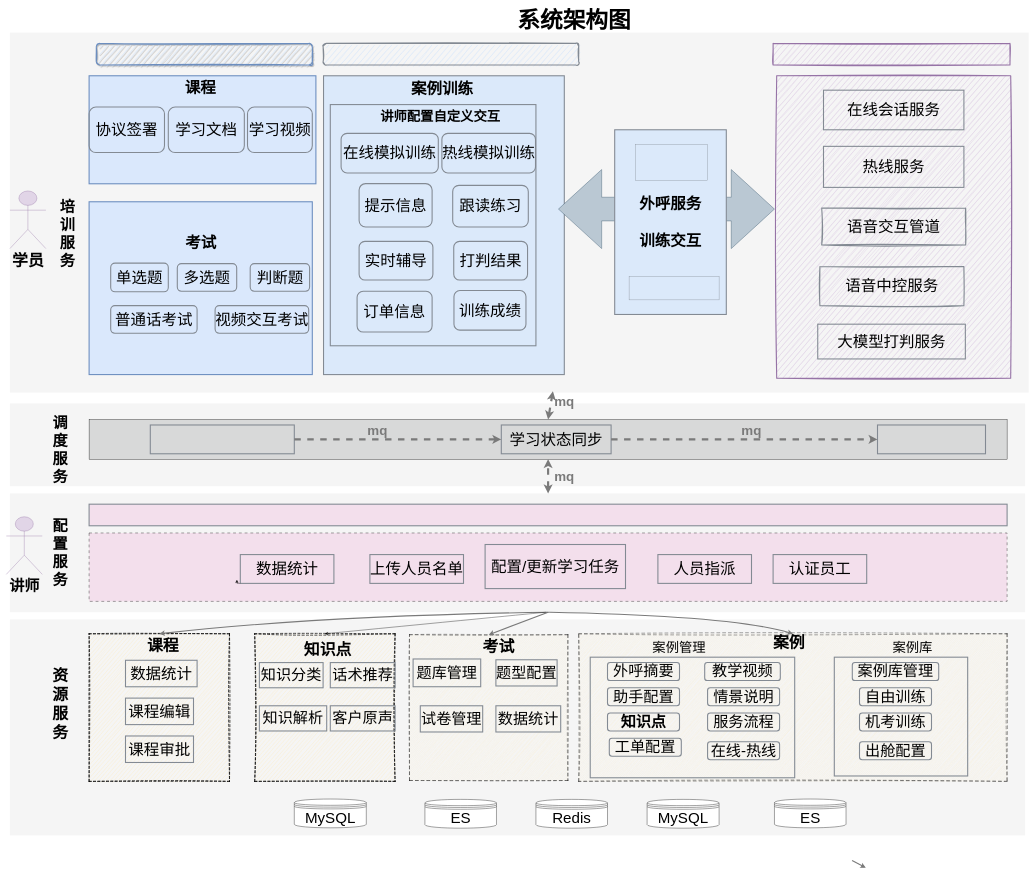
The diagram is 1035 pixels wide and 877 high, and some of its shapes have lost their labels. Here are the shapes that lost their labels. From the top down, the centre of each, then its label:
At [204,54]: "客服学习平台".
At [450,54]: "客服仿真训练平台".
At [891,54]: "外部依赖(智能测、通讯基建)".
At [671,162]: "RPC通信".
At [674,288]: "Kafka(MQ)".
At [222,439]: "学习任务调度创建".
At [931,439]: "学习进程同步".
At [547,514]: "讲师配置平台".
